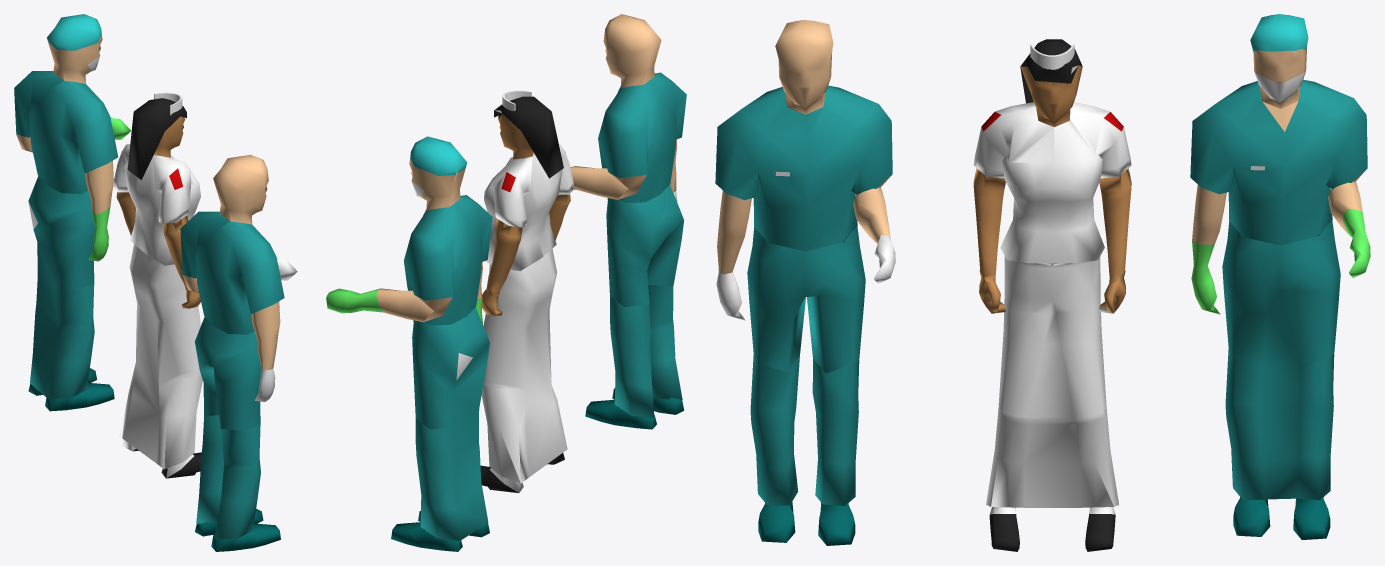
Rendered from medicos.fbx.
The picture shows the model from 3 angles, left to right: view 1: azimuth 30°, elevation 25°; view 2: azimuth 150°, elevation 25°; view 3: azimuth 270°, elevation 25°; orthographic projection. The views are drawn at different scales.
Parts seen in each view (by area): view 1: G_3D_Man_Standing_2_1, G_3D_Man_Standing_1_1, G_3d_woman_standing1; view 2: G_3D_Man_Standing_2_1, G_3D_Man_Standing_1_1, G_3d_woman_standing1; view 3: G_3D_Man_Standing_2_1, G_3D_Man_Standing_1_1, G_3d_woman_standing1.
Boxes of the visible parts, bbox=[...] form: G_3D_Man_Standing_2_1: bbox=[14, 14, 130, 411]; G_3D_Man_Standing_1_1: bbox=[180, 154, 297, 551]; G_3d_woman_standing1: bbox=[113, 92, 202, 478]; G_3D_Man_Standing_2_1: bbox=[326, 136, 492, 551]; G_3D_Man_Standing_1_1: bbox=[570, 14, 686, 429]; G_3d_woman_standing1: bbox=[480, 90, 574, 492]; G_3D_Man_Standing_2_1: bbox=[1190, 14, 1370, 539]; G_3D_Man_Standing_1_1: bbox=[715, 20, 895, 545]; G_3d_woman_standing1: bbox=[973, 39, 1131, 551].
Size of the model in its own units: 0.6582 by 1.85 by 2.12.
